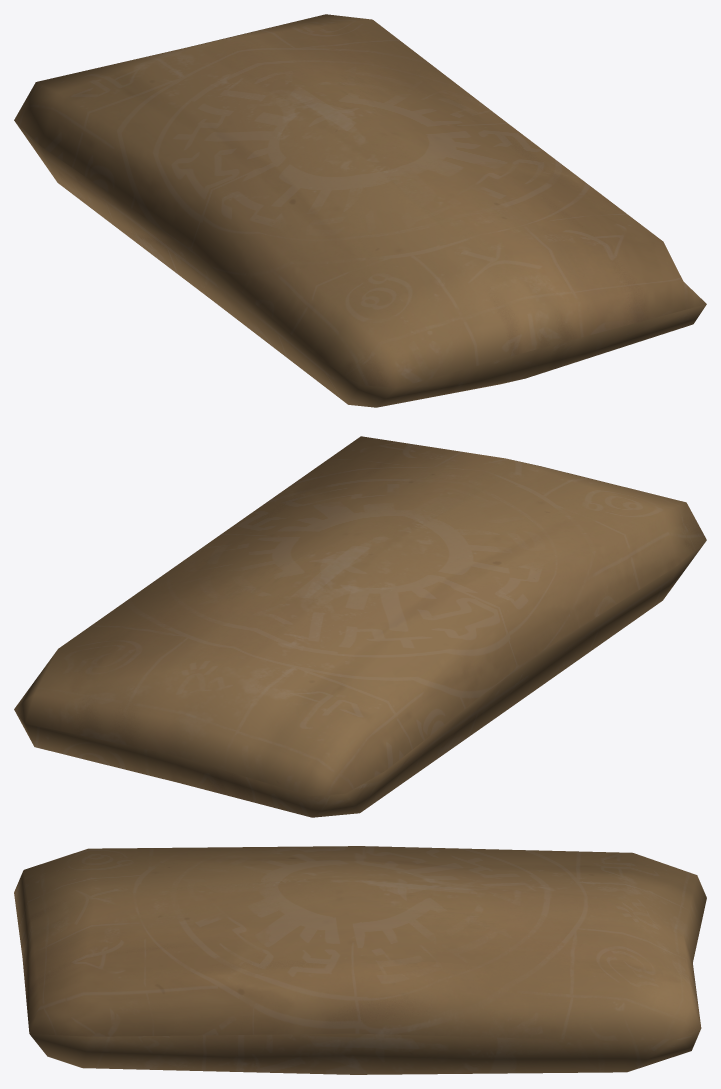
File: prop_Sack_Solo.fbx
3 views of the same model, one above another, from view 1: azimuth 30°, elevation 25°; view 2: azimuth 150°, elevation 25°; view 3: azimuth 270°, elevation 25° (orthographic). The views are drawn at different scales.
Visible parts, largest first — view 1: prop_Sack_Solo; view 2: prop_Sack_Solo; view 3: prop_Sack_Solo.
Boxes of the visible parts, x1,y1,x2,y2 form: prop_Sack_Solo: [14, 14, 706, 407]; prop_Sack_Solo: [14, 436, 706, 817]; prop_Sack_Solo: [14, 846, 706, 1074].
Size of the model in its own units: 67.63 by 30.36 by 123.
